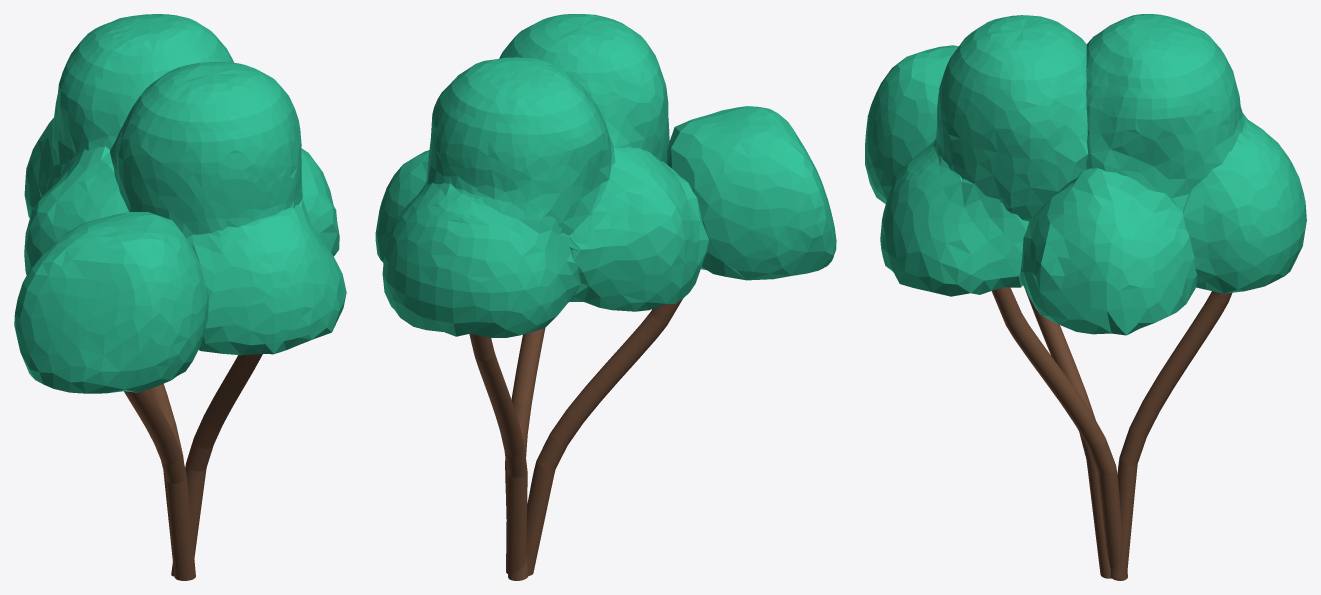
Rendered from tree2.fbx.
3 renders of one model, left to right at view 1: azimuth 30°, elevation 25°; view 2: azimuth 150°, elevation 25°; view 3: azimuth 270°, elevation 25°, orthographic. The views are drawn at different scales.
Visible parts, largest first — view 1: Cylinder; view 2: Cylinder; view 3: Cylinder.
Boxes of the visible parts, x1,y1,x2,y2 form: Cylinder: [14, 14, 346, 580]; Cylinder: [375, 14, 836, 580]; Cylinder: [865, 14, 1306, 580].
Size of the model in its own units: 200 by 270 by 200.
